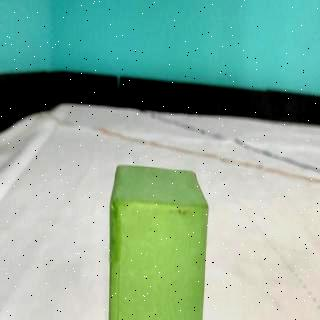greenbox: (106, 164, 208, 320)
